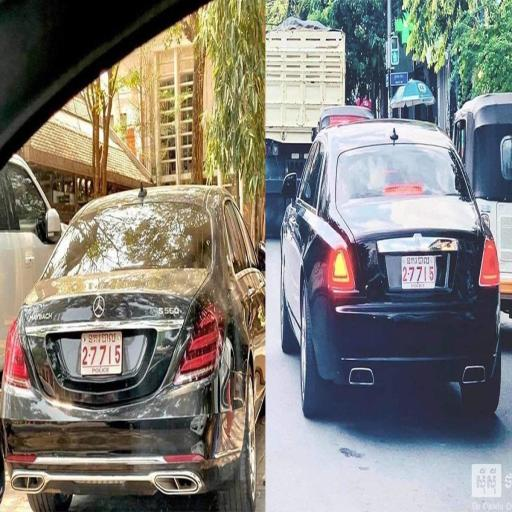Plate Number: (81, 330, 123, 375), (401, 256, 436, 289)
